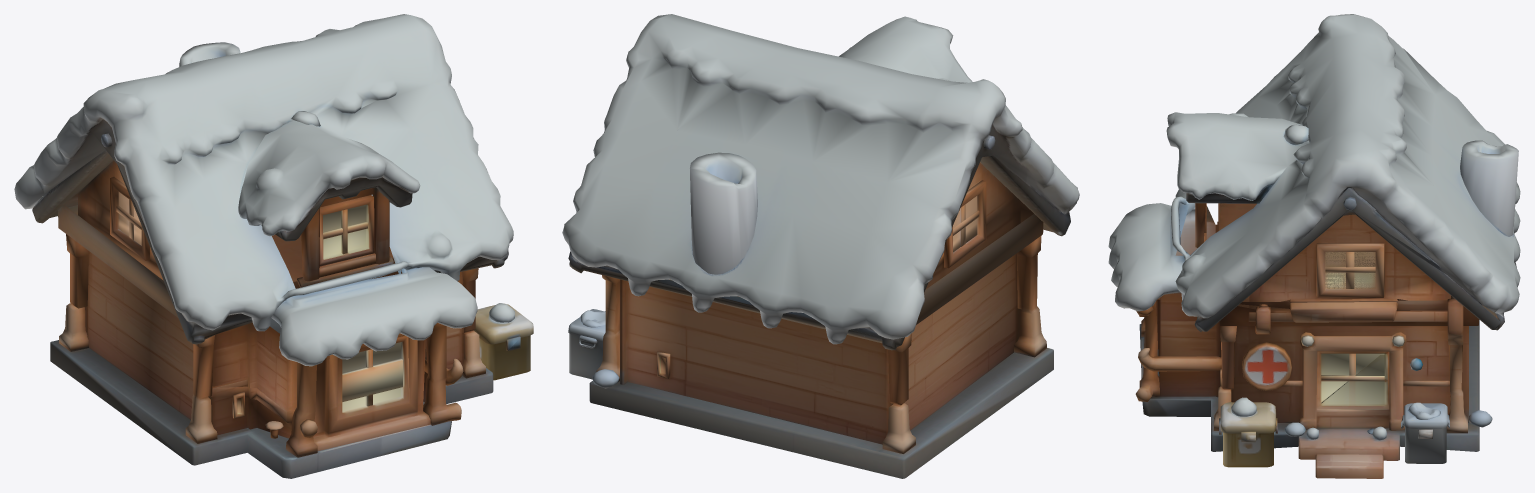
3 views of the same model, side by side, from view 1: azimuth 30°, elevation 25°; view 2: azimuth 150°, elevation 25°; view 3: azimuth 270°, elevation 25° (orthographic). The views are drawn at different scales.
Parts seen in each view (by area): view 1: tripo_node_094e1914; view 2: tripo_node_094e1914; view 3: tripo_node_094e1914.
Part boxes in pixels (box(x1,y1,x2,y2)): tripo_node_094e1914: box(14, 14, 533, 478); tripo_node_094e1914: box(562, 14, 1079, 478); tripo_node_094e1914: box(1108, 14, 1520, 478).
Size of the model in its own units: 0.9824 by 0.7871 by 0.9824.
1 material, 1 textured.
